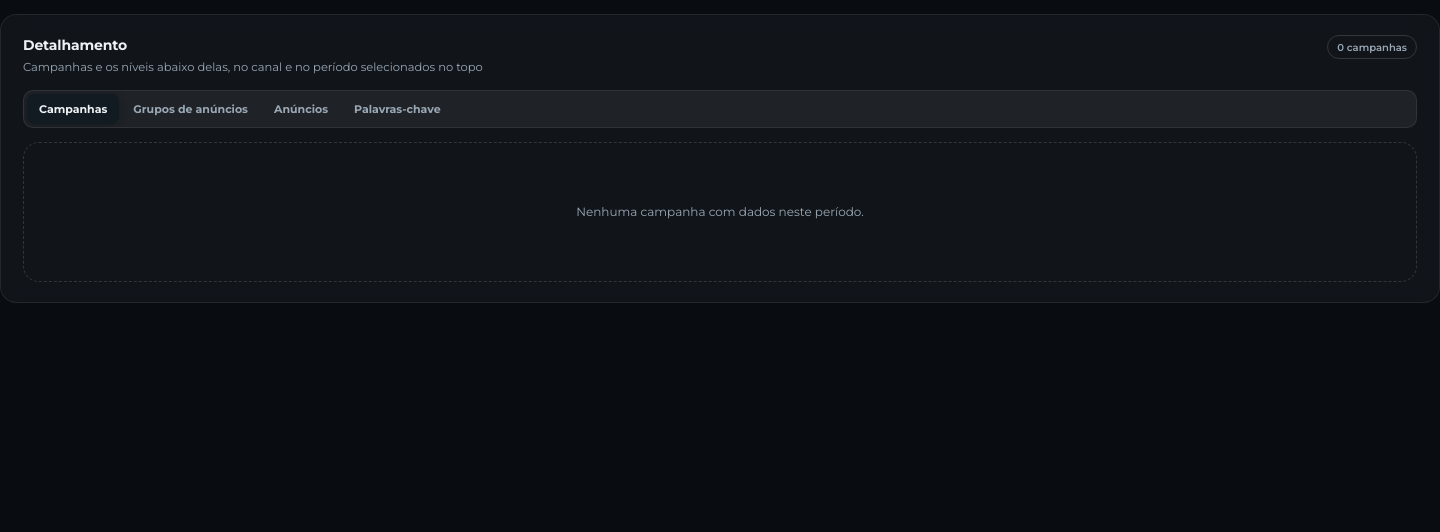
Test case: detalhamento de mídia: Top 5 e expansão › palavras-chave abrem no Top 5 por Investimento DESC
Click the tab "Palavras-chave": (397, 109) top-left (342, 94), bottom-right (453, 124)
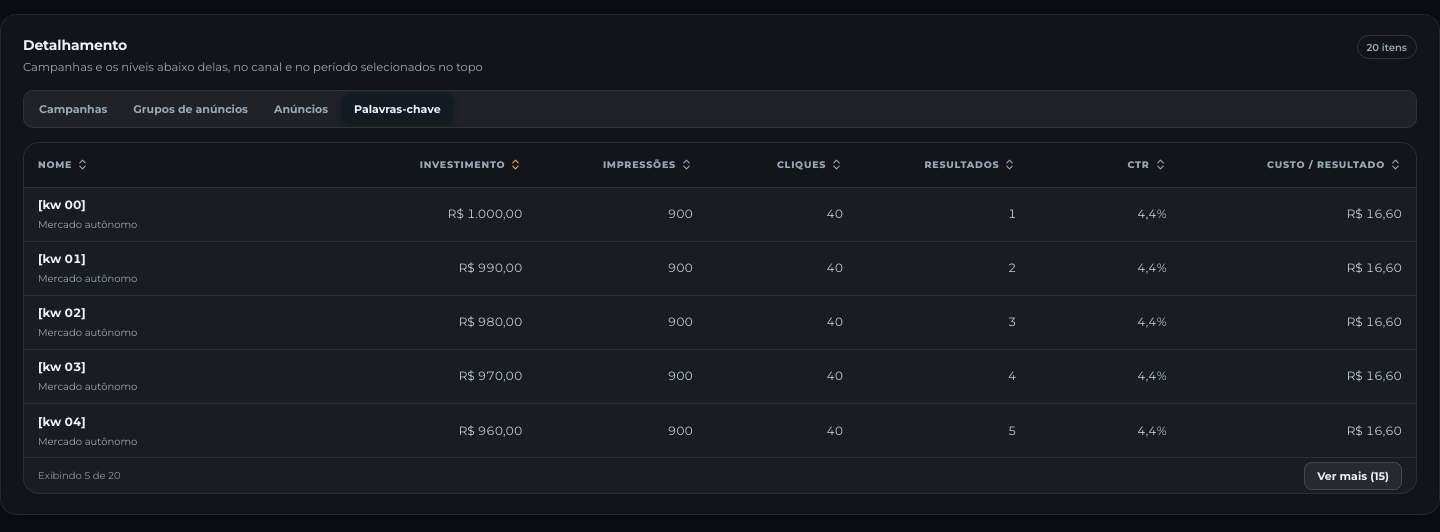
Expected: the text with class "table-count" reads "Exibindo 5 de 20", top-left (38, 469), bottom-right (120, 482)
Expected: the button "Ver mais (15)" is shown, top-left (1304, 462), bottom-right (1402, 490)
